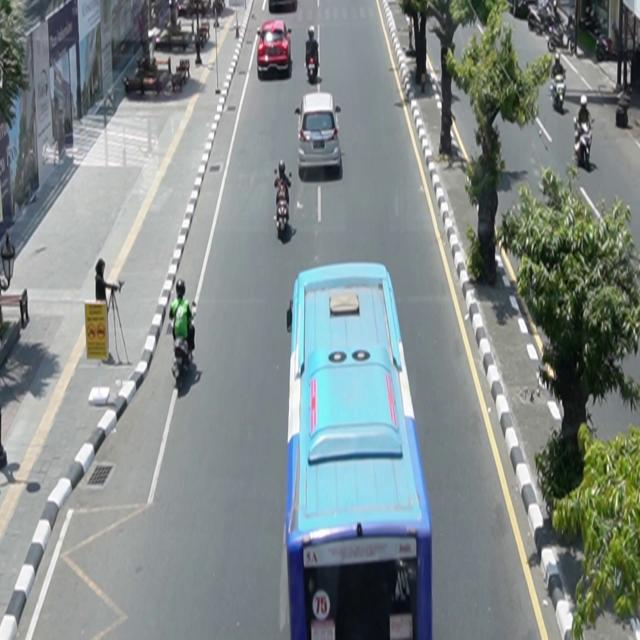bus: (285, 262, 434, 640)
car: (295, 92, 343, 175)
